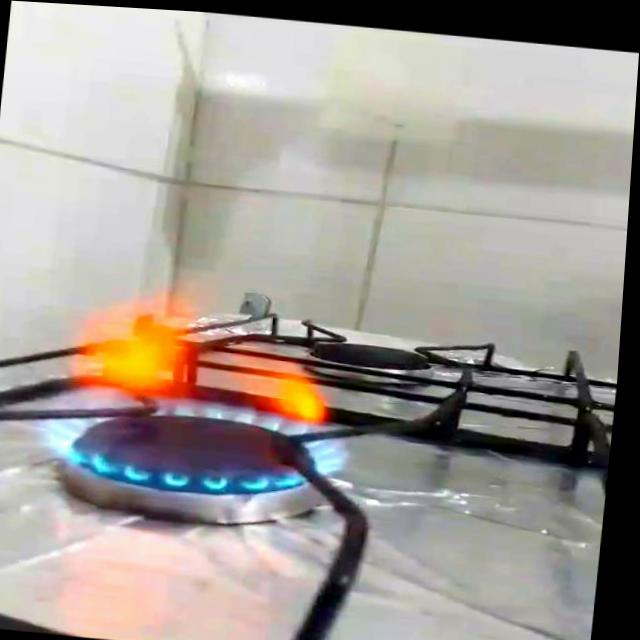helmet: (27, 257, 374, 501)
